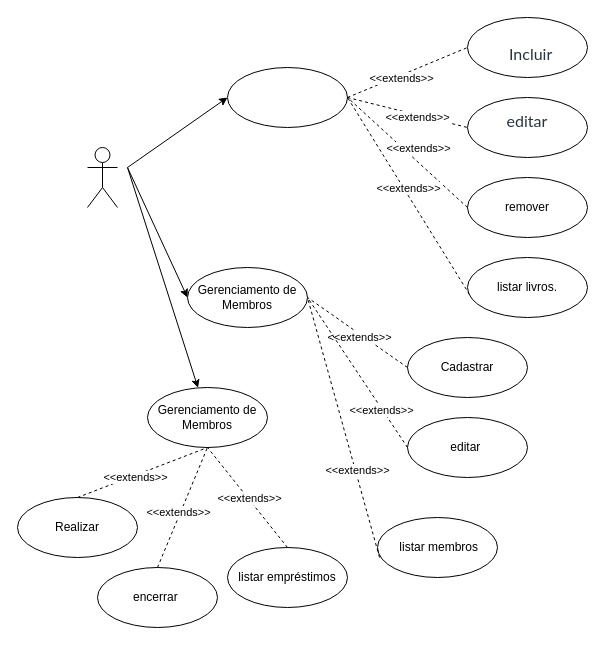
Image size: 605x645. Some labels were removed from this diagram. Each missing label, with the box of its shape:
Bibliotecario: (86, 146, 118, 208)
Gerenciamento de Livros: (226, 66, 348, 128)
